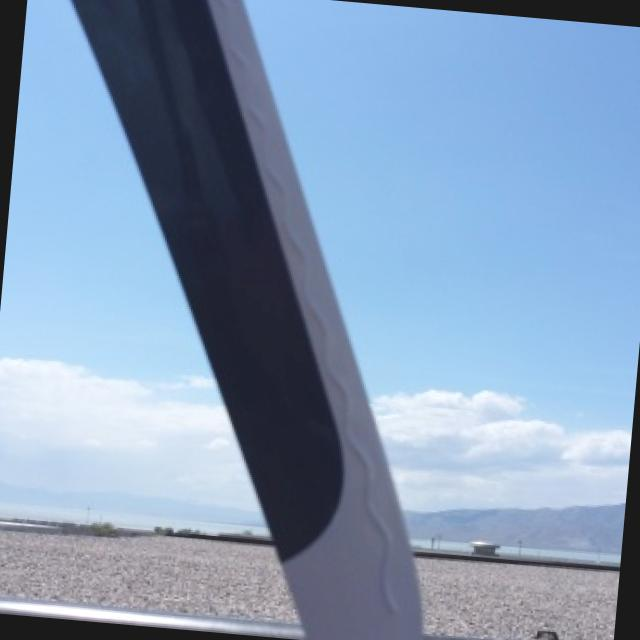healthy: (251, 0, 640, 424)
